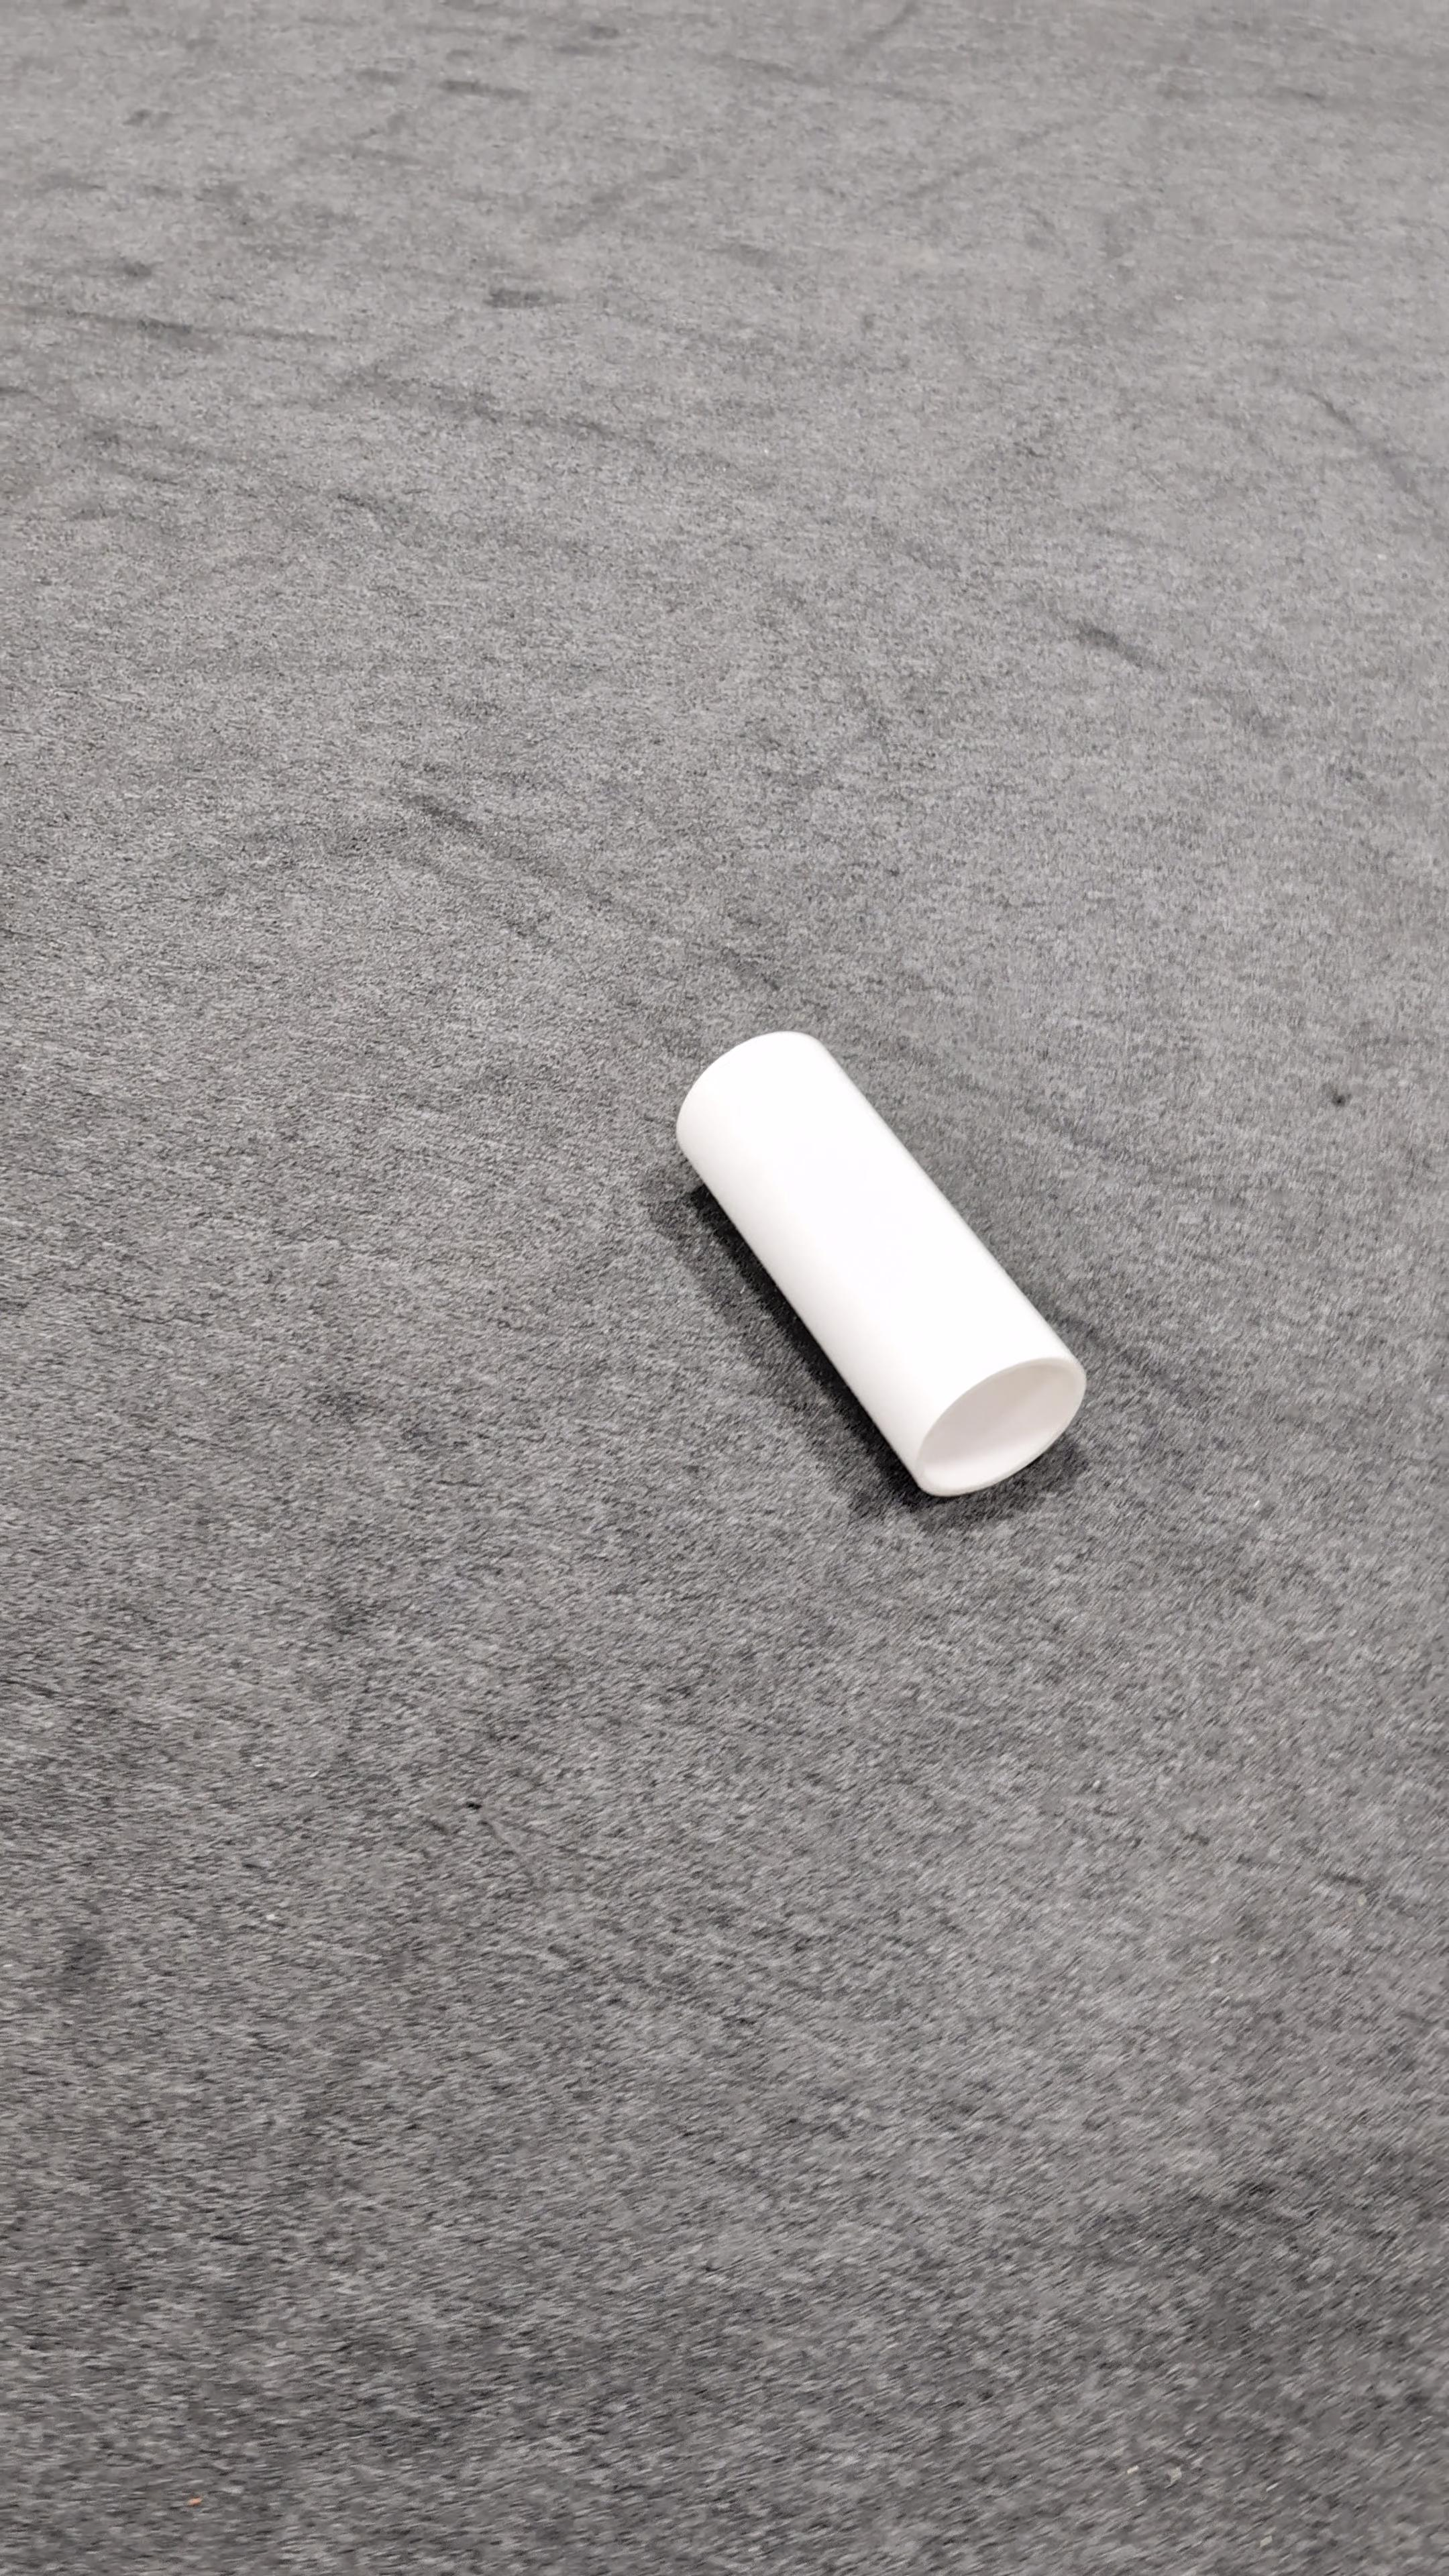coral: (672, 1023, 1090, 1495)
